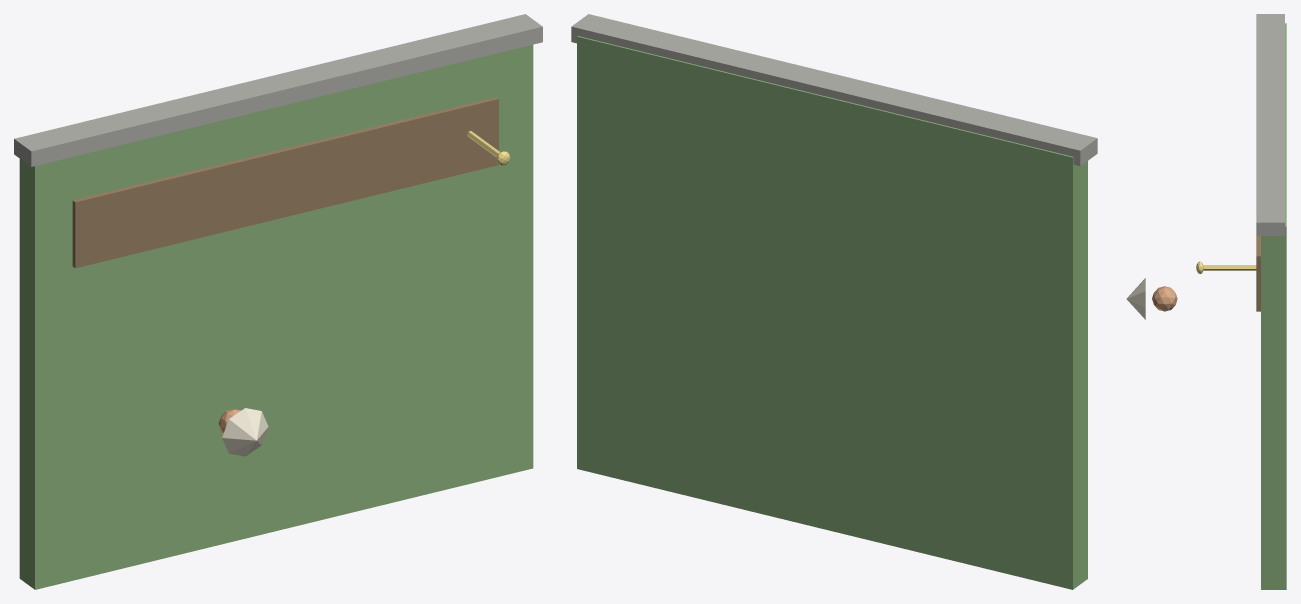
The model's file is 02_RuongLua.glb.
3 renders of one model, left to right at view 1: azimuth 30°, elevation 25°; view 2: azimuth 150°, elevation 25°; view 3: azimuth 270°, elevation 25°, orthographic. The views are drawn at different scales.
Parts seen in each view (by area): view 1: base, paddy, edge, hat; view 2: base, edge; view 3: base, edge, farmer_head, hat, paddy, stalk.
Boxes of the visible parts, x1,y1,x2,y2 form: base: (19,44,533,589); paddy: (72,97,498,268); edge: (14,14,542,166); hat: (222,408,268,456); base: (577,36,1087,589); edge: (571,14,1097,166); base: (1261,23,1286,589); edge: (1256,14,1284,235); farmer_head: (1152,286,1177,311); hat: (1126,278,1145,319); paddy: (1256,236,1260,311); stalk: (1203,265,1256,270).
Size of the model in its own units: 3.08 by 2.54 by 1.
